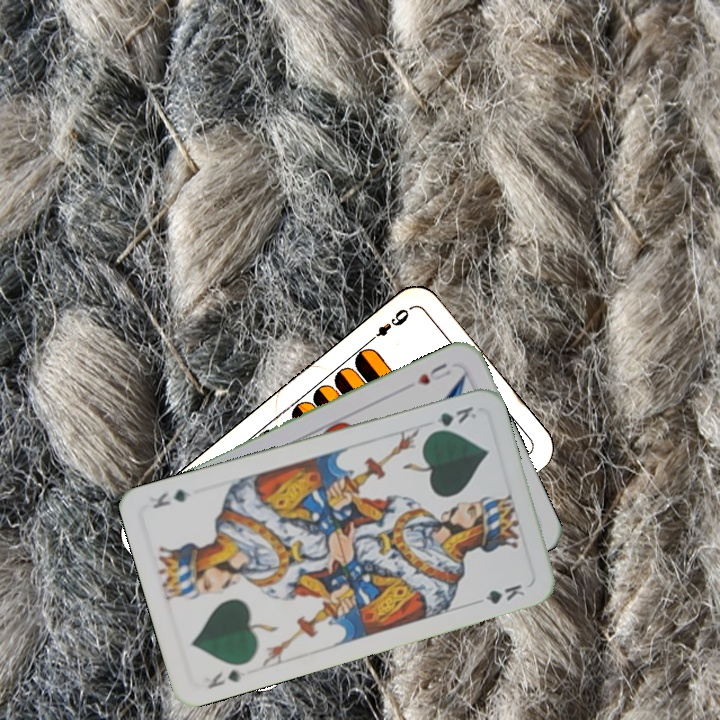E9: (364, 304, 412, 346)
GK: (425, 402, 479, 436), (200, 665, 244, 691)
HU: (413, 359, 454, 388)
